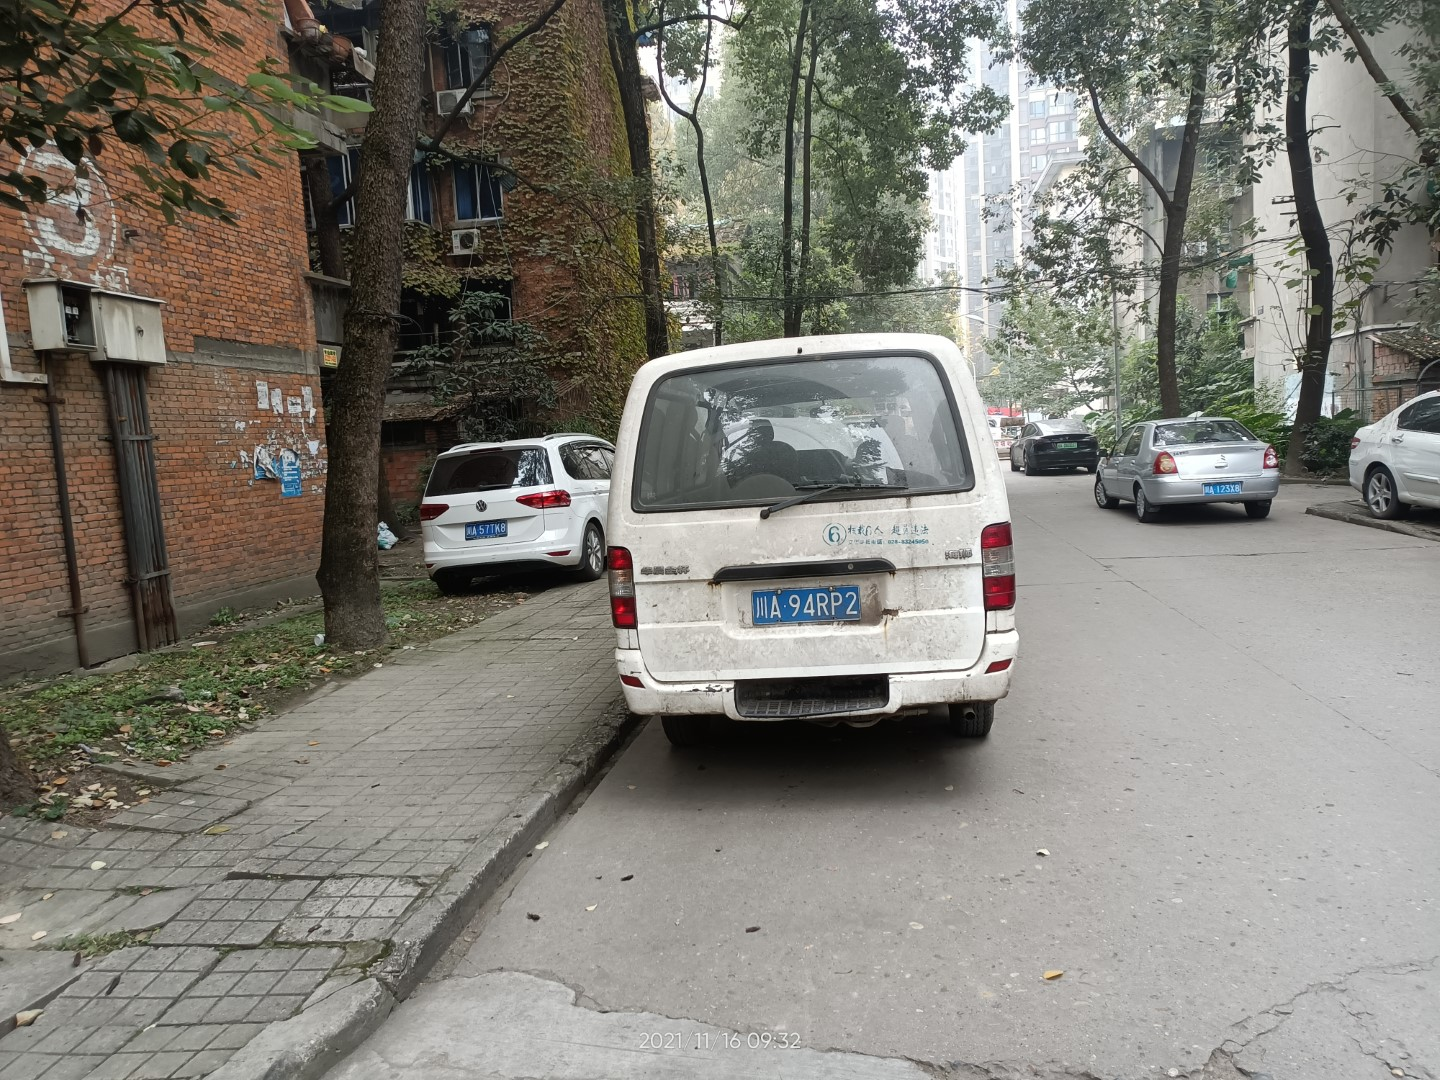plate: (749, 583, 861, 623), (464, 518, 508, 540), (1202, 481, 1240, 496)
